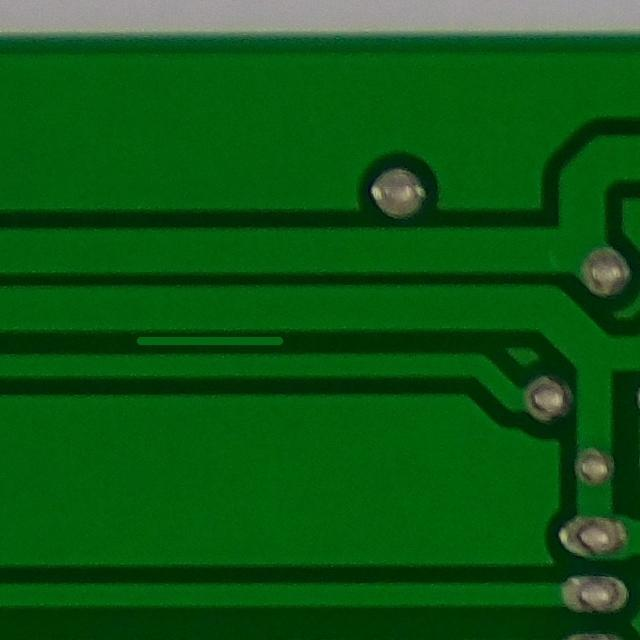spurious_copper: (120, 318, 296, 373)
